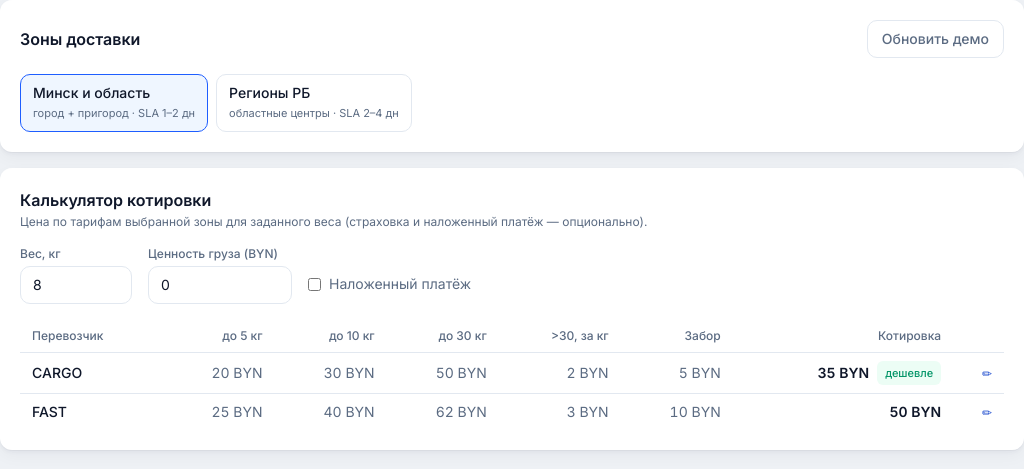
Scenario: LogisticsTariffs › ценность груза добавляет страховку к котировке
Expected: the text "CARGO" is shown, [20, 352, 162, 394]
Replace the text in the number field labelled "Ценность груза (BYN)" with "1000": coordinates (220, 285) [148, 266, 292, 304]
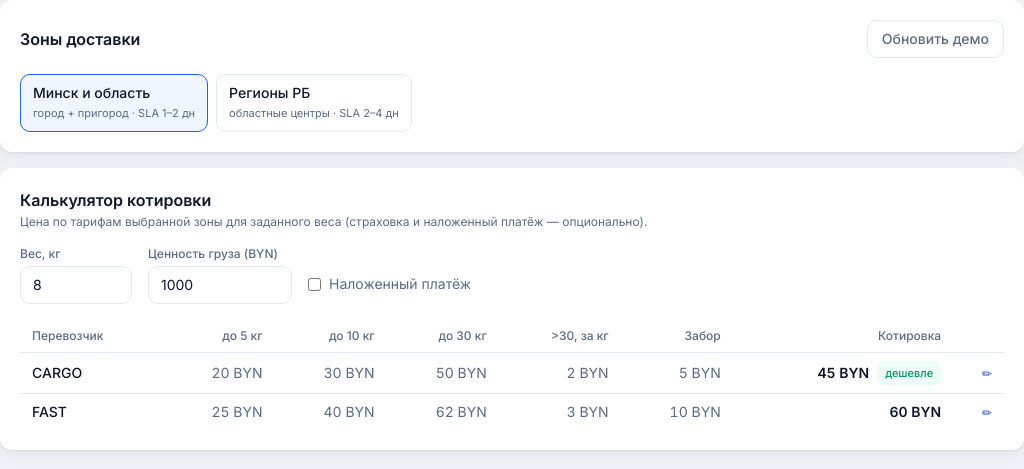
Expected: the text "45 BYN" is shown, [817, 363, 869, 383]
Expected: the text "60 BYN" is shown, [889, 402, 941, 422]
